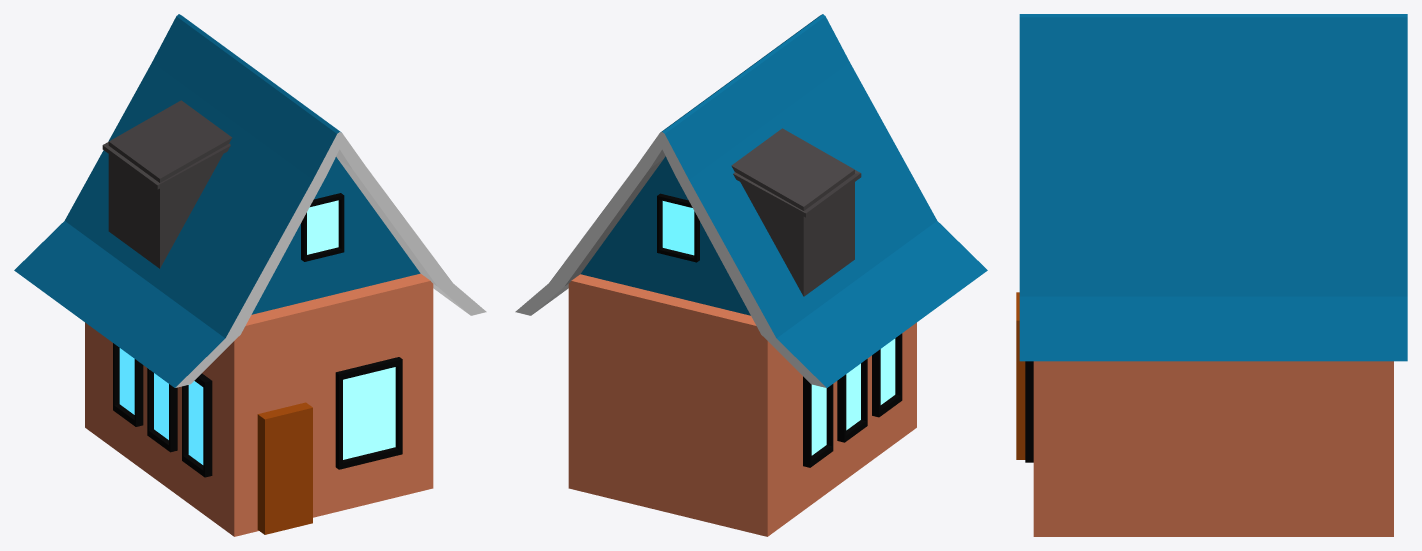
The model's file is D_House2.fbx.
3 views of the same model, side by side, from view 1: azimuth 30°, elevation 25°; view 2: azimuth 150°, elevation 25°; view 3: azimuth 270°, elevation 25° (orthographic). The views are drawn at different scales.
Parts seen in each view (by area): view 1: Cube.032; view 2: Cube.032; view 3: Cube.032.
Boxes of the visible parts, bbox=[...] form: Cube.032: bbox=[14, 14, 486, 536]; Cube.032: bbox=[515, 14, 987, 536]; Cube.032: bbox=[1016, 14, 1407, 536].
Bounding box in the file's own units: 470 × 555 × 424.
